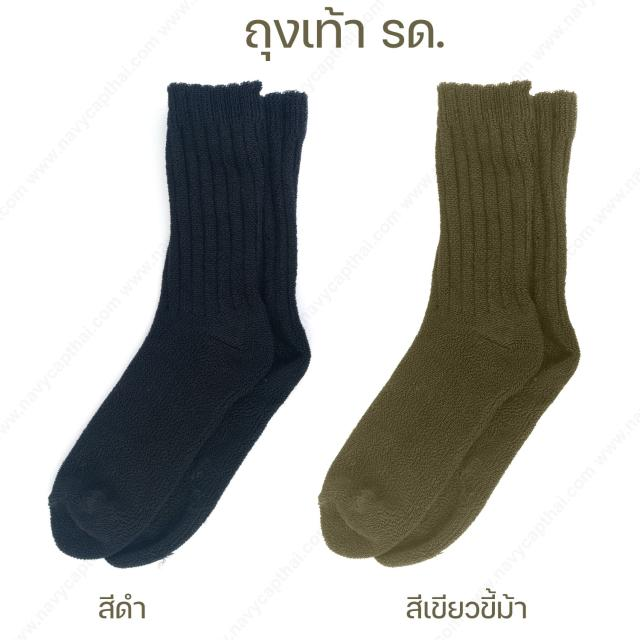sock: (317, 78, 581, 568), (48, 79, 312, 568)
